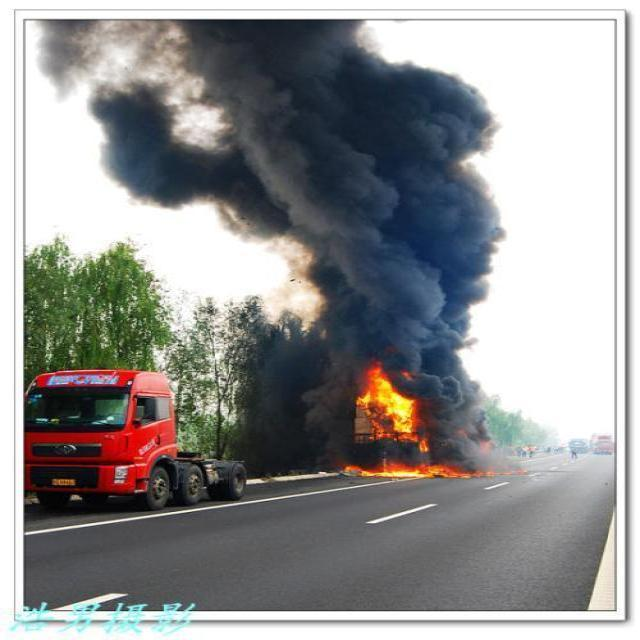Fire: (360, 362, 530, 481)
Smoke: (32, 21, 524, 361)
